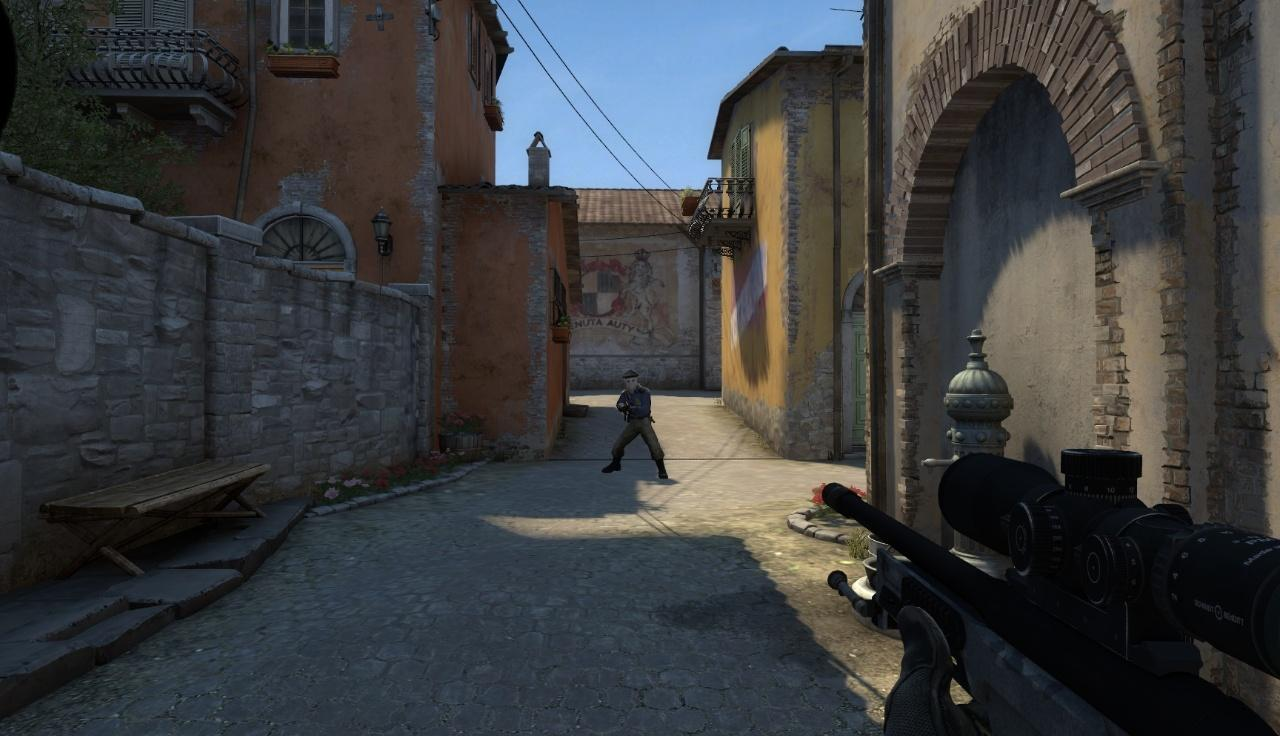sniper: (829, 451, 1280, 733)
tt: (602, 370, 666, 476)
tthead: (622, 371, 639, 391)
